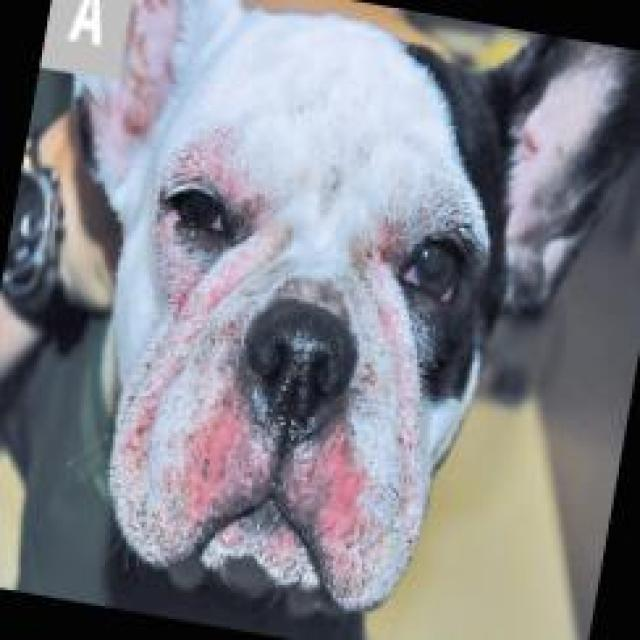allergic dermatitis: (188, 399, 266, 518), (308, 421, 368, 553), (152, 234, 200, 304), (224, 162, 258, 245), (172, 133, 232, 180), (124, 394, 162, 468), (189, 268, 240, 316)
